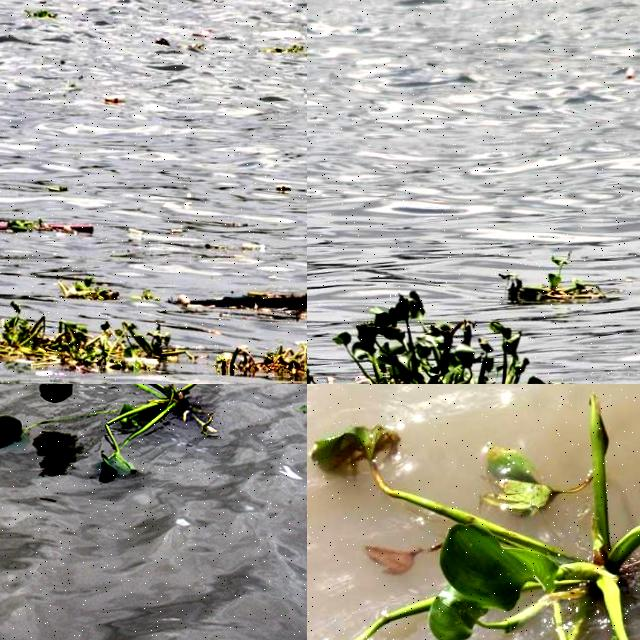water-hyacinth: (308, 385, 640, 640), (1, 385, 227, 492), (335, 290, 549, 385), (1, 300, 182, 371), (507, 256, 599, 312), (211, 337, 308, 384), (60, 271, 121, 305)
